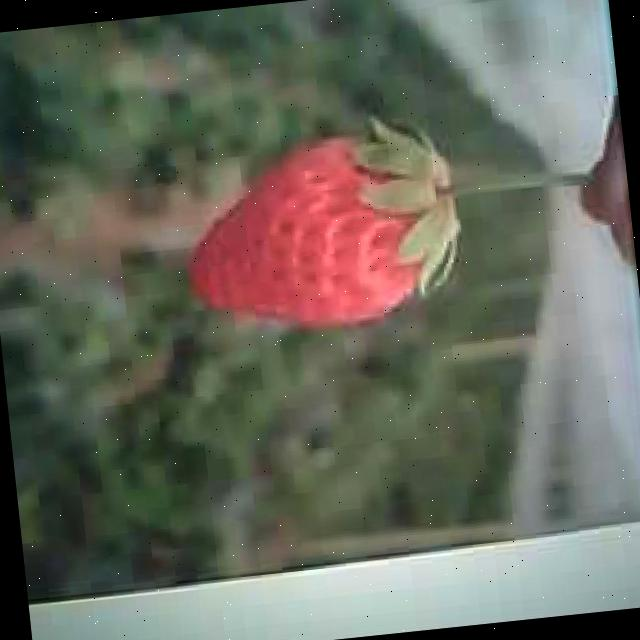strawberry: (178, 125, 453, 339)
